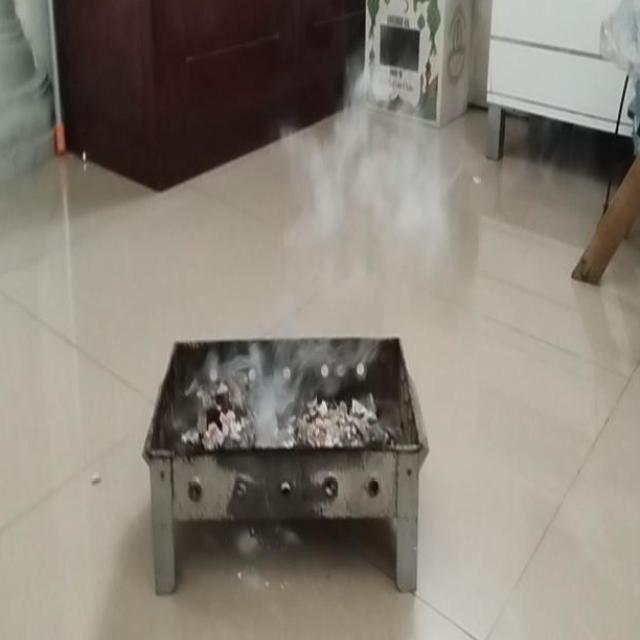fire: (299, 94, 462, 274), (241, 348, 300, 428)
